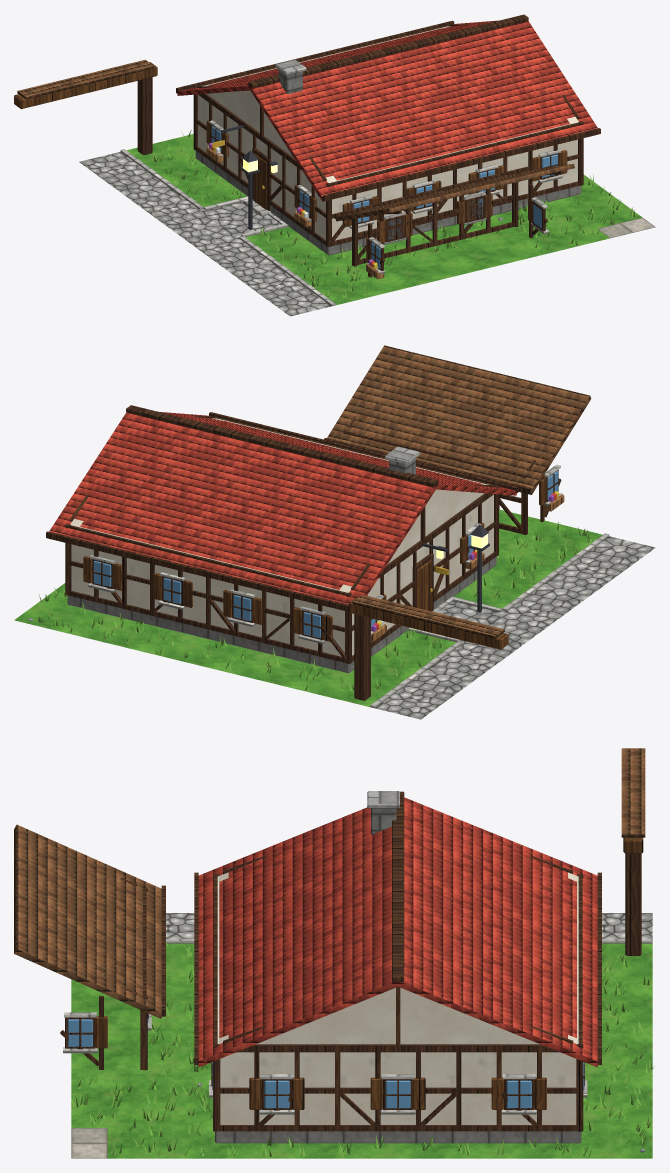
File: chunk_2_6.glb
The picture shows the model from 3 angles, top to bottom: view 1: azimuth 30°, elevation 25°; view 2: azimuth 150°, elevation 25°; view 3: azimuth 270°, elevation 25°; orthographic projection. The views are drawn at different scales.
Visible parts, largest first — view 1: chunk_2_6; view 2: chunk_2_6; view 3: chunk_2_6.
Part boxes in pixels (box(x1,y1,x2,y2)): chunk_2_6: box(14, 14, 655, 316); chunk_2_6: box(14, 345, 655, 719); chunk_2_6: box(14, 748, 653, 1158).
Bounding box in the file's own units: 19 × 5.89 × 17.67.
23 materials, 14 textured.
